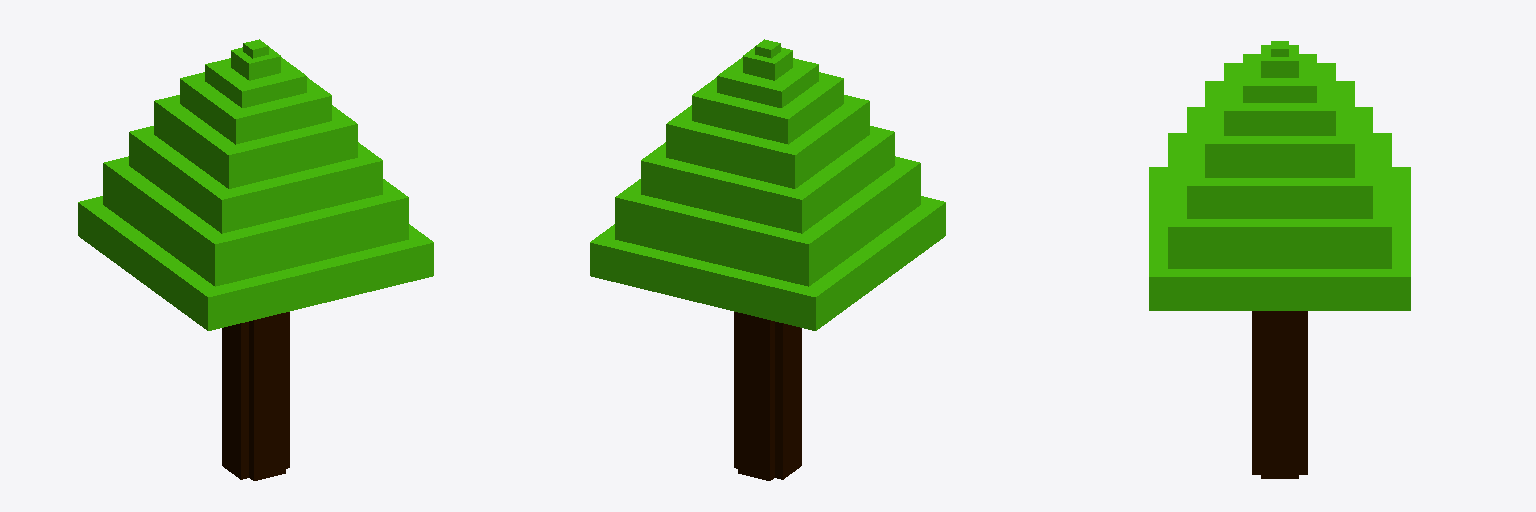
The picture shows the model from 3 angles: view 1: azimuth 30°, elevation 25°; view 2: azimuth 150°, elevation 25°; view 3: azimuth 270°, elevation 25°; orthographic projection.
Visible parts, largest first — view 1: object 1; view 2: object 1; view 3: object 1.
Boxes of the visible parts, x1=… form: object 1: x1=78, y1=39, x2=433, y2=480; object 1: x1=590, y1=39, x2=945, y2=480; object 1: x1=1149, y1=41, x2=1410, y2=478.
Bounding box in the file's own units: 2.8 × 5 × 2.8.
Materials: 1 (1 with a texture image).